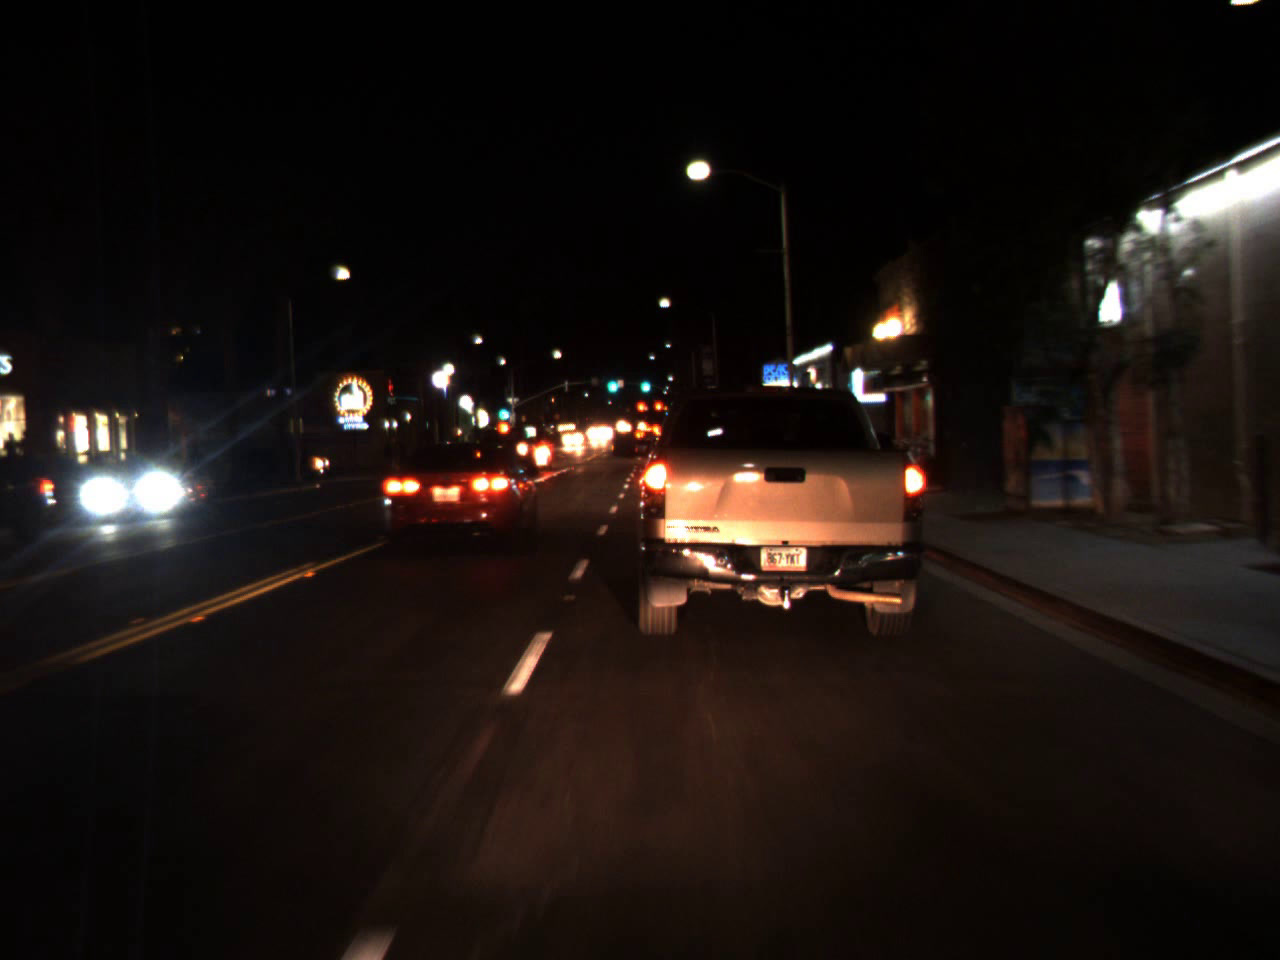go: (603, 367, 621, 397), (638, 369, 652, 396), (496, 398, 508, 422)
